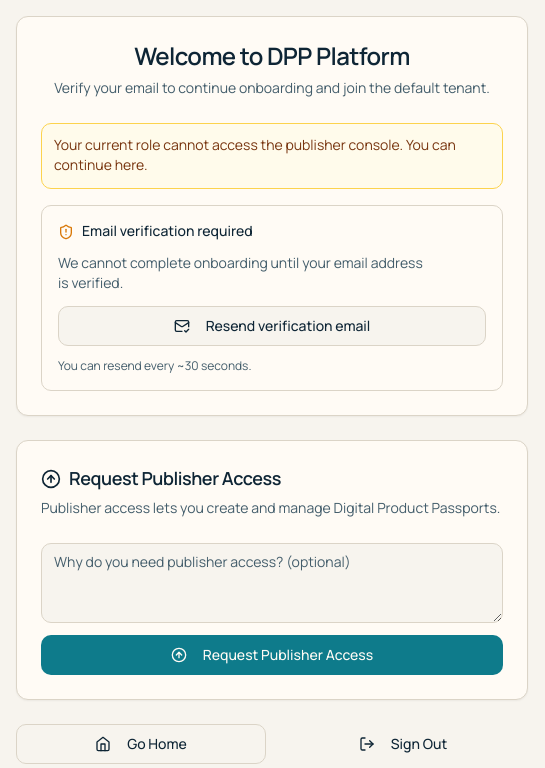
Test: WelcomePage › renders email verification blocker and can resend verification
expect the text "Email verification required" is shown: met, box [58,222,253,241]
expect the text "Your current role cannot access the publisher console. You can continue here." is shown: met, box [41,123,503,189]
Click the button "Resend verification email".
click(272, 326)  # box [58,306,486,346]
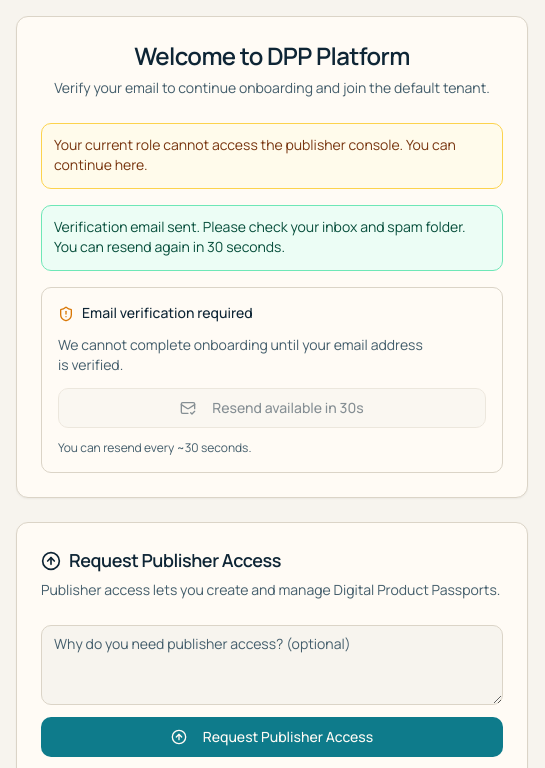
expect the text "Verification email sent. Please check your inbox and spam folder." is shown: met, box [54,218,466,257]
expect the button "Resend available in 30s" is shown: met, box [58,388,486,428]
